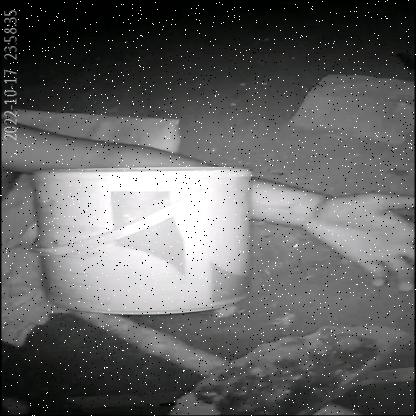hand: (0, 116, 416, 296)
